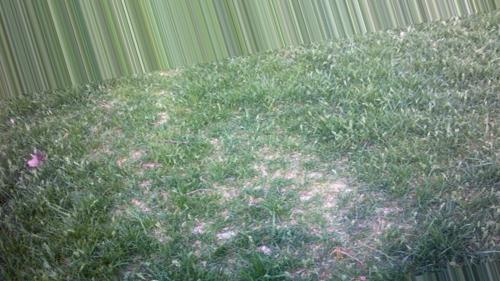patch: (166, 101, 355, 258)
